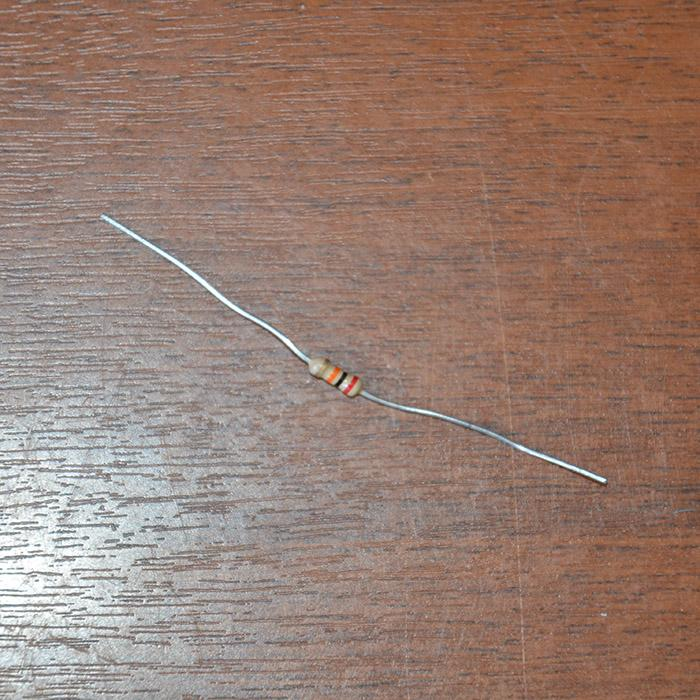resistor: (308, 354, 363, 399)
